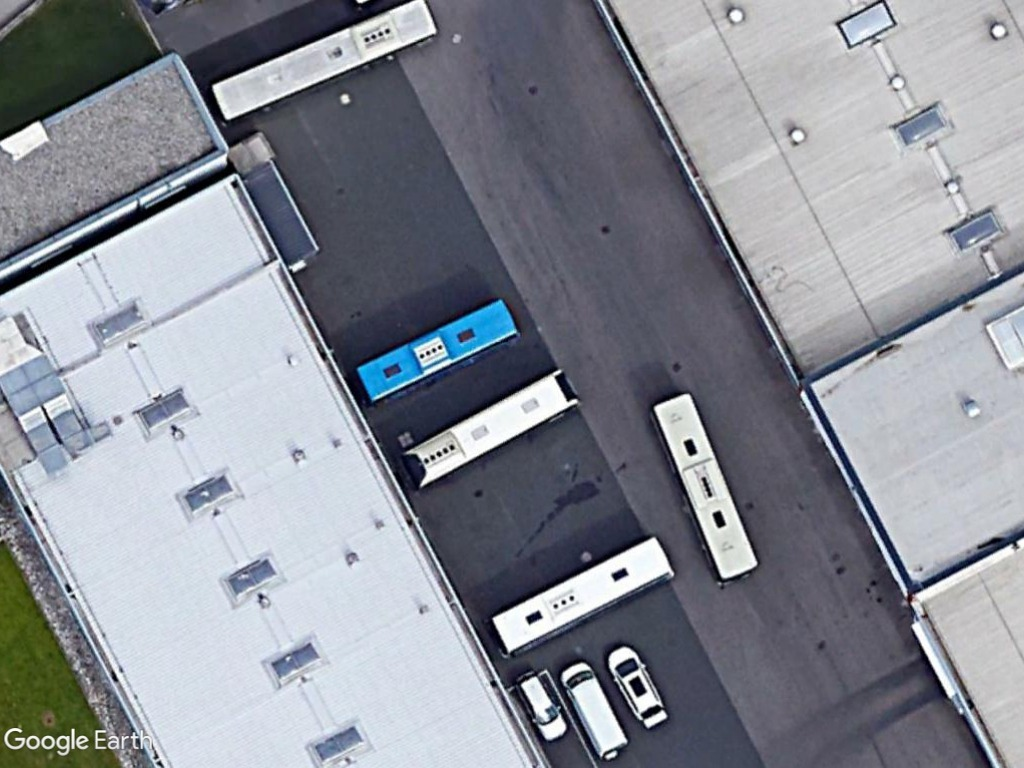bus: (208, 0, 442, 124), (398, 364, 585, 491), (648, 390, 763, 590), (491, 531, 673, 657), (351, 293, 520, 405)
car: (605, 643, 671, 730), (510, 670, 570, 745)
van: (558, 655, 626, 761)
